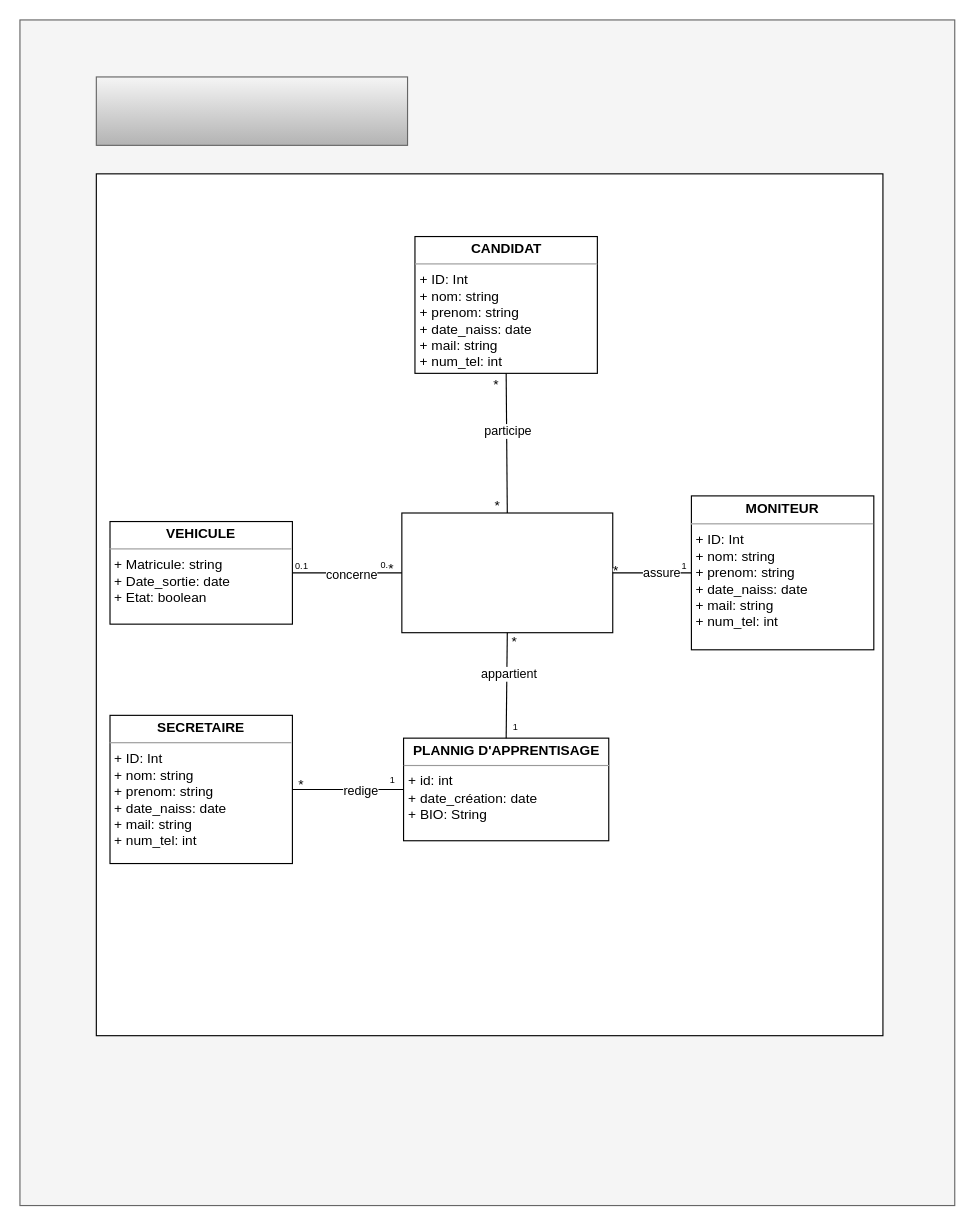
Image size: 975x1226. Some labels were removed from this diagram. The centre of each missing label's shape, as x and y in pixels:
DIAGRAMME DE CLASSE: GESTION DES PLANNING D'APPRENTISSAGE: the point at 251,110
SEANCE + id: int + type: String + date_seance: date + heure: int + Lieux: String: the point at 507,572
